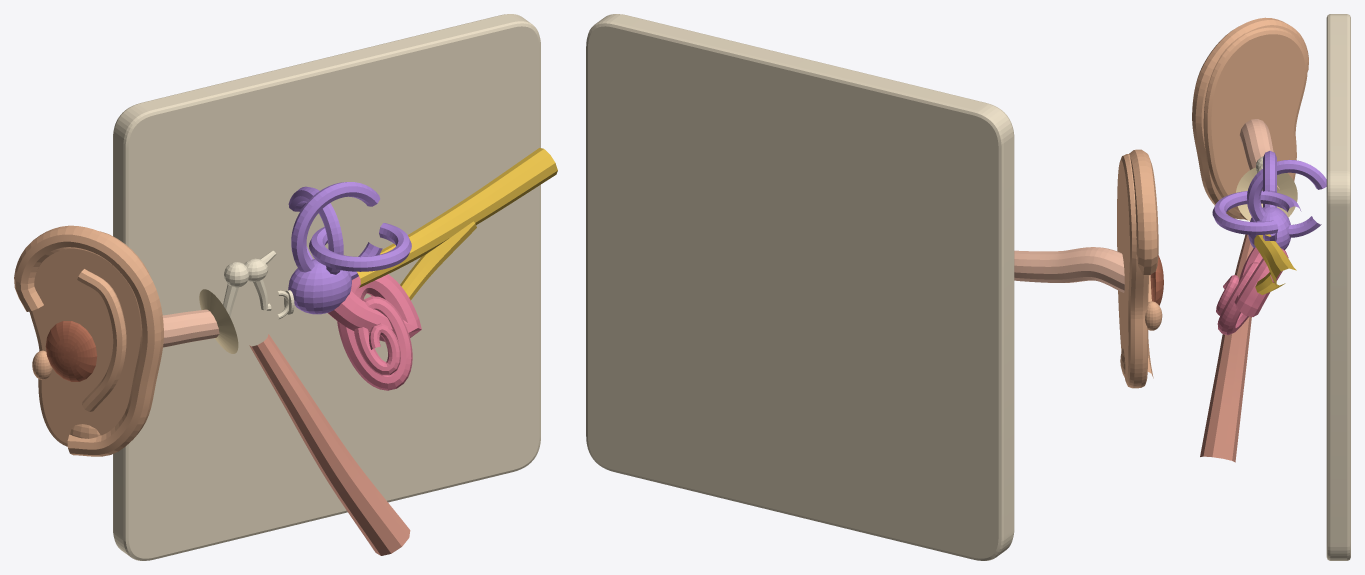
Rendered from bio-ear__model3d__ear-teaching-model.glb.
3 renders of one model, left to right at view 1: azimuth 30°, elevation 25°; view 2: azimuth 150°, elevation 25°; view 3: azimuth 270°, elevation 25°, orthographic. The views are drawn at different scales.
Visible parts, largest first — view 1: temporal-bone, pinna, eustachian-tube, cochlea, auditory-nerve, semicircular-canals, pinna-concha, vestibule, ear-canal, eardrum, malleus, incus; view 2: temporal-bone, pinna, ear-canal; view 3: pinna, temporal-bone, eustachian-tube, semicircular-canals, cochlea, auditory-nerve, ear-canal, eardrum, vestibule.
Part boxes in pixels (box(x1,y1,x2,y2)): temporal-bone: box(113, 14, 540, 560); pinna: box(14, 225, 163, 456); eustachian-tube: box(249, 334, 410, 555); cochlea: box(328, 274, 421, 390); auditory-nerve: box(356, 148, 557, 300); semicircular-canals: box(288, 182, 411, 279); pinna-concha: box(45, 321, 97, 381); vestibule: box(288, 259, 351, 314); ear-canal: box(162, 309, 219, 347); eardrum: box(199, 289, 238, 353); malleus: box(223, 262, 249, 316); incus: box(244, 250, 276, 310); temporal-bone: box(586, 14, 1014, 560); pinna: box(1117, 149, 1162, 388); ear-canal: box(1014, 247, 1124, 292); pinna: box(1192, 17, 1308, 220); temporal-bone: box(1326, 14, 1350, 560); eustachian-tube: box(1200, 234, 1253, 462); semicircular-canals: box(1212, 151, 1326, 241); cochlea: box(1216, 247, 1288, 335); auditory-nerve: box(1254, 234, 1296, 294); ear-canal: box(1239, 119, 1279, 189); eardrum: box(1236, 167, 1297, 221); vestibule: box(1248, 207, 1290, 250).
Size of the model in its own units: 0.3147 by 0.249 by 0.0923.
